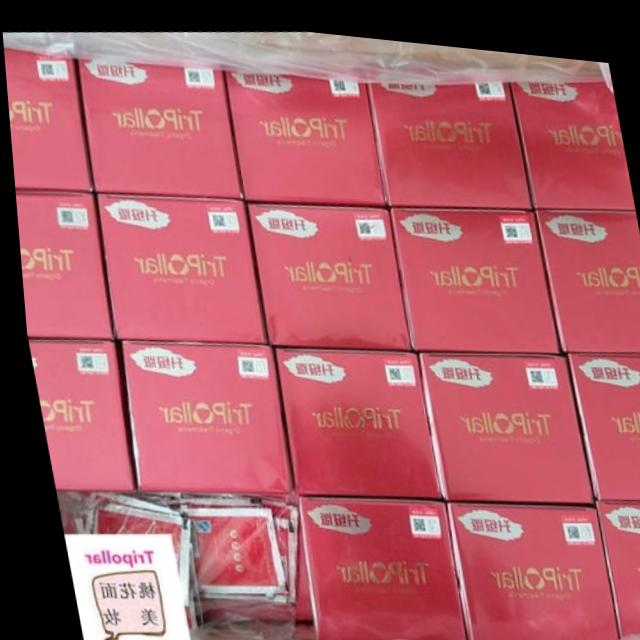box: (410, 339, 585, 491), (115, 337, 286, 488), (436, 493, 610, 640), (267, 339, 433, 493), (93, 191, 264, 339), (291, 492, 460, 640), (387, 196, 559, 341), (241, 198, 408, 341), (76, 59, 241, 193), (366, 73, 532, 202), (223, 66, 385, 198), (507, 66, 632, 195), (531, 195, 640, 340), (23, 337, 125, 490), (12, 188, 113, 339), (3, 49, 88, 189), (561, 341, 640, 489), (586, 488, 640, 625), (282, 504, 305, 618)
